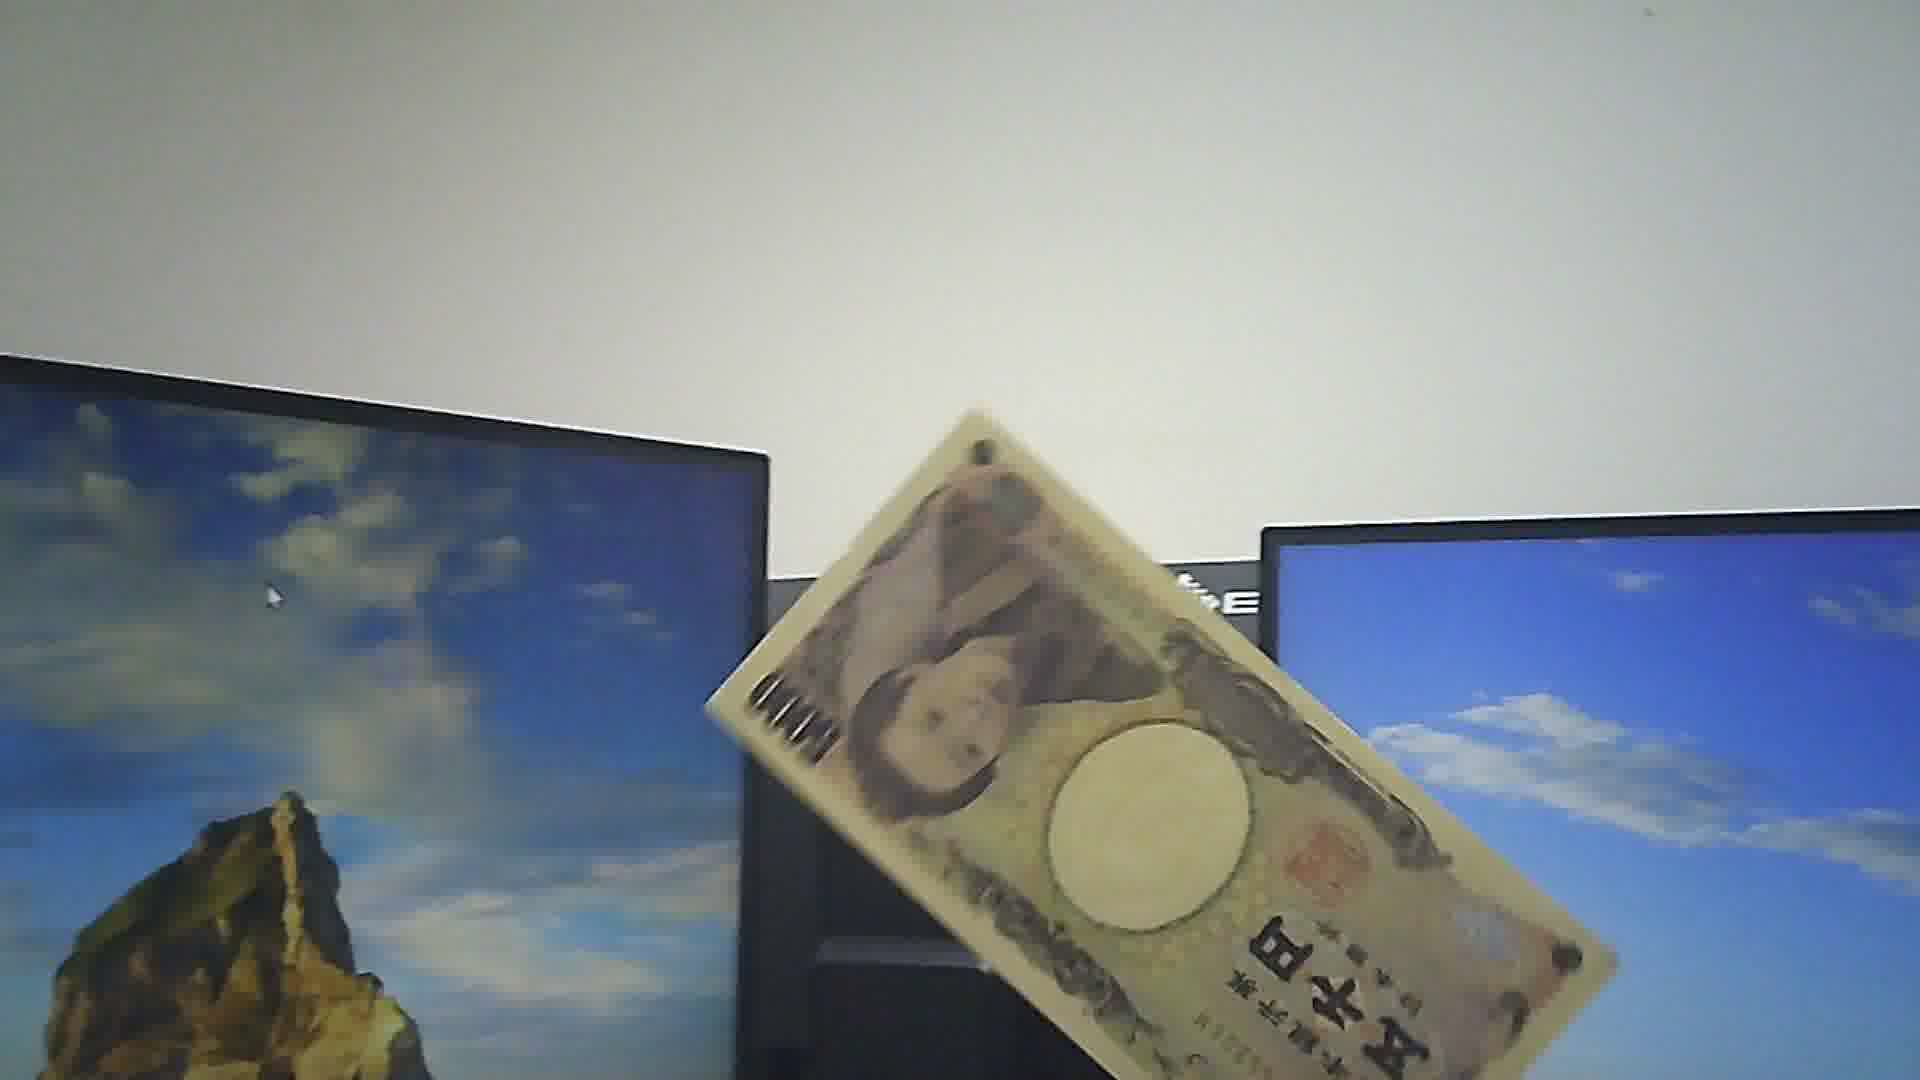5,000 Yen: (716, 394, 1629, 1073)
